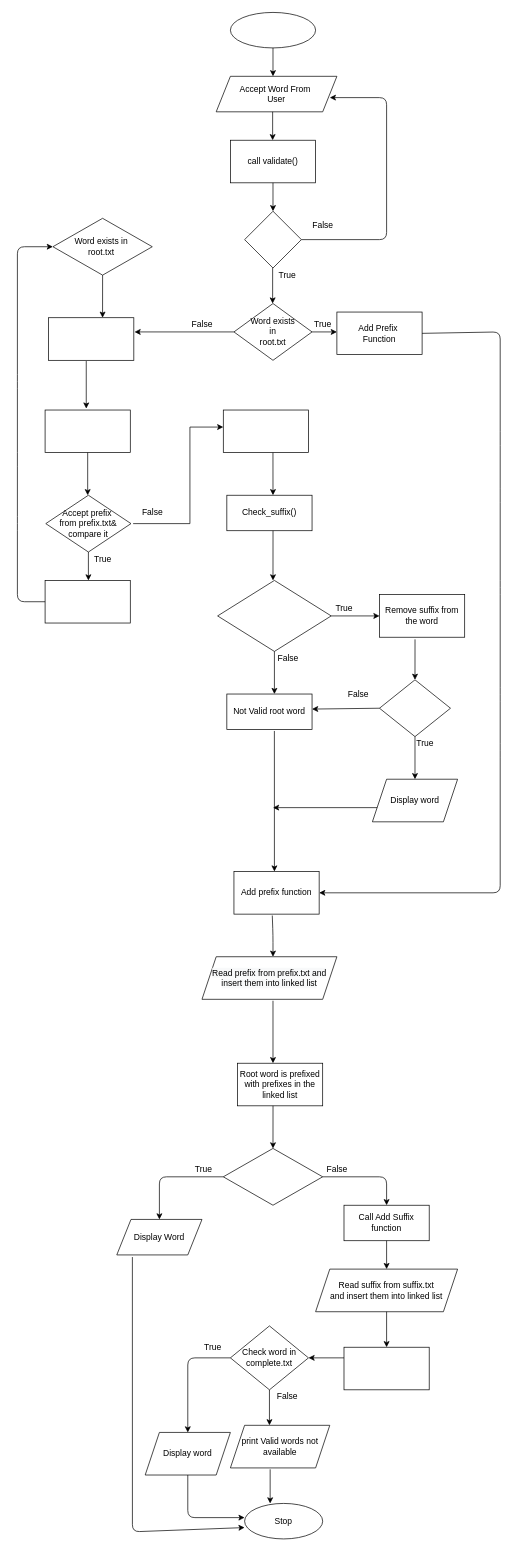
The diagram is 518 pixels wide and 1551 high, and some of its shapes have lost their labels. The centre of each missing label's shape, as x and y in pixels:
"Accept suffix from suffix.txt & compare it" belongs at point (274, 615).
"Check the word in complete word.txt" belongs at point (273, 1176).
"Check_Prefix()" belongs at point (87, 431).
"Isalpha()" belongs at point (272, 239).
"Prefixed words are suffixed with suffixes in linked list." belongs at point (386, 1368).
"Remove Prefix from the word" belongs at point (87, 601).
"Start" belongs at point (273, 30).
"Trimming Prefix" belongs at point (91, 338).
"Trimming Suffix" belongs at point (265, 431).
"Word exists in root.ttxt" belongs at point (414, 708).
